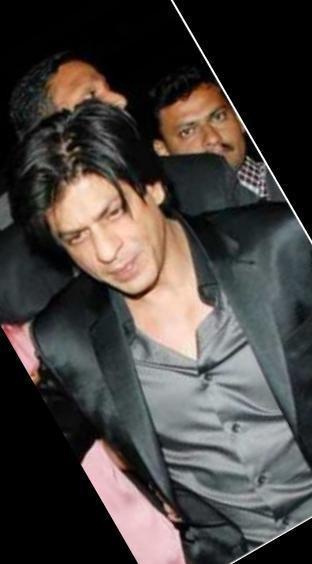Drunk: (50, 182, 165, 294)
